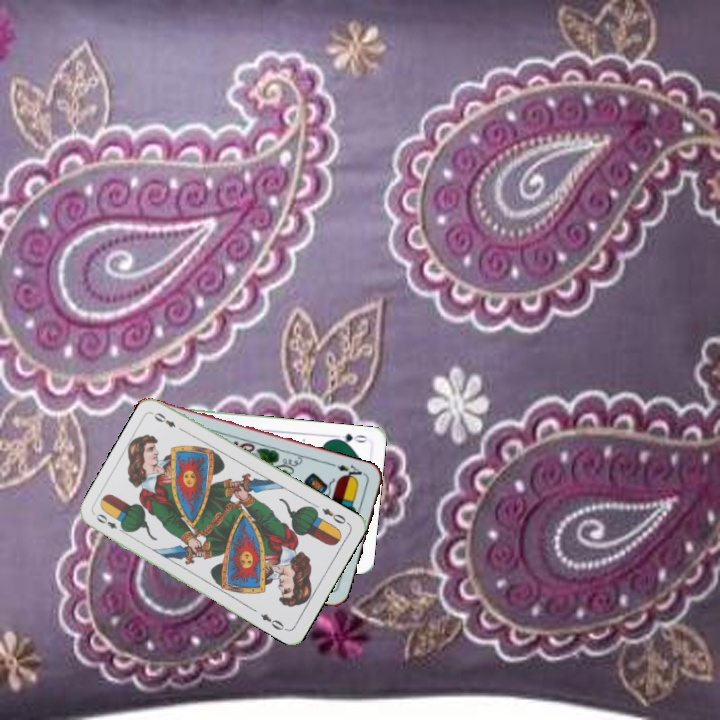EA: (328, 459, 368, 483)
EO: (92, 509, 129, 536), (318, 504, 351, 527)
GO: (329, 429, 369, 447)
